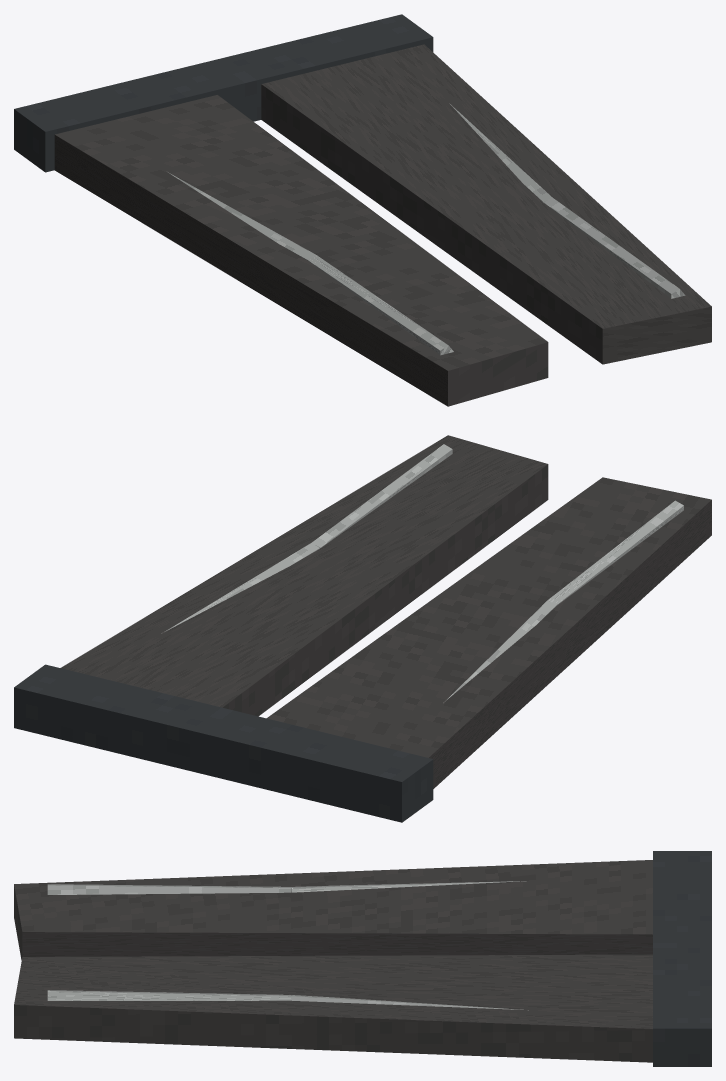
File: chaps_leather.glb
3 renders of one model, top to bottom at view 1: azimuth 30°, elevation 25°; view 2: azimuth 150°, elevation 25°; view 3: azimuth 270°, elevation 25°, orthographic. The views are drawn at different scales.
Visible parts, largest first — view 1: block_leg panel (×2), block_waist belt, block_leg closure 1 (×2), block_leg closure 0 (×2); view 2: block_leg panel (×2), block_waist belt, block_leg closure 1 (×2), block_leg closure 0 (×2); view 3: block_leg panel (×2), block_waist belt, block_leg closure 1 (×2), block_leg closure 0 (×2).
Boxes of the visible parts, x1=… form: block_leg panel (×2): x1=54, y1=44, x2=711, y2=406; block_waist belt: x1=14, y1=14, x2=433, y2=172; block_leg closure 1 (×2): x1=308, y1=197, x2=685, y2=355; block_leg closure 0 (×2): x1=168, y1=103, x2=552, y2=260; block_leg panel (×2): x1=60, y1=435, x2=711, y2=788; block_waist belt: x1=14, y1=664, x2=433, y2=822; block_leg closure 1 (×2): x1=312, y1=444, x2=683, y2=605; block_leg closure 0 (×2): x1=161, y1=542, x2=556, y2=702; block_leg panel (×2): x1=14, y1=860, x2=652, y2=1062; block_waist belt: x1=653, y1=851, x2=711, y2=1066; block_leg closure 1 (×2): x1=47, y1=884, x2=291, y2=1000; block_leg closure 0 (×2): x1=291, y1=881, x2=528, y2=1010.
Bounding box in the file's own units: 0.342 × 0.0366 × 0.5677.
Materials: 1 (1 with a texture image).
